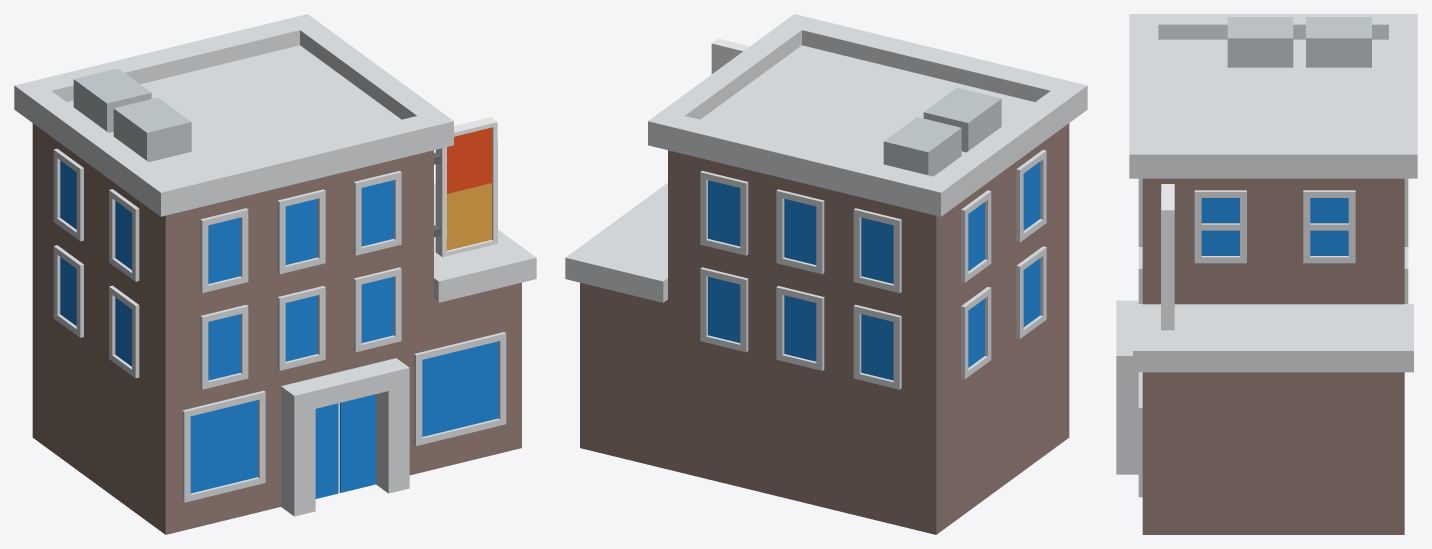
The model's file is department_store.gltf.
The picture shows the model from 3 angles, left to right: view 1: azimuth 30°, elevation 25°; view 2: azimuth 150°, elevation 25°; view 3: azimuth 270°, elevation 25°; orthographic projection.
Parts seen in each view (by area): view 1: Cube.495; view 2: Cube.495; view 3: Cube.495.
Boxes of the visible parts, x1,y1,x2,y2 form: Cube.495: [14, 14, 536, 534]; Cube.495: [565, 14, 1087, 534]; Cube.495: [1116, 14, 1417, 534].
Bounding box in the file's own units: 2.14 × 1.98 × 1.5.
Materials: 1 (1 with a texture image).
